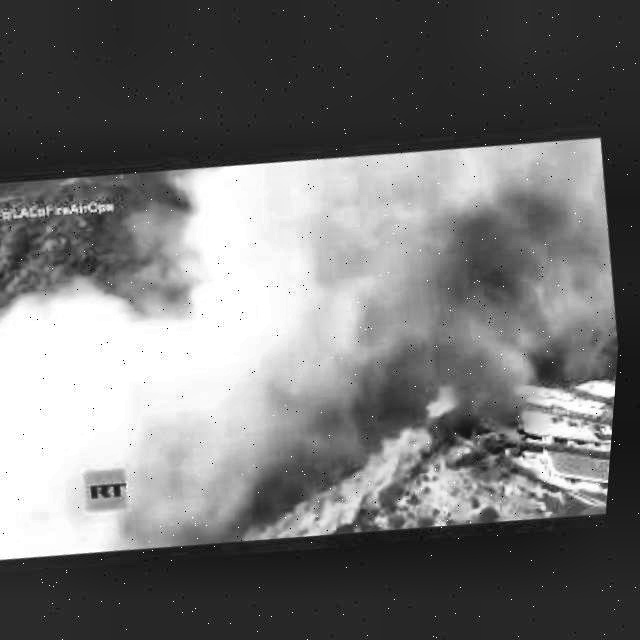Fire: (216, 353, 490, 552)
Smoke: (132, 91, 635, 418), (0, 268, 203, 568)
